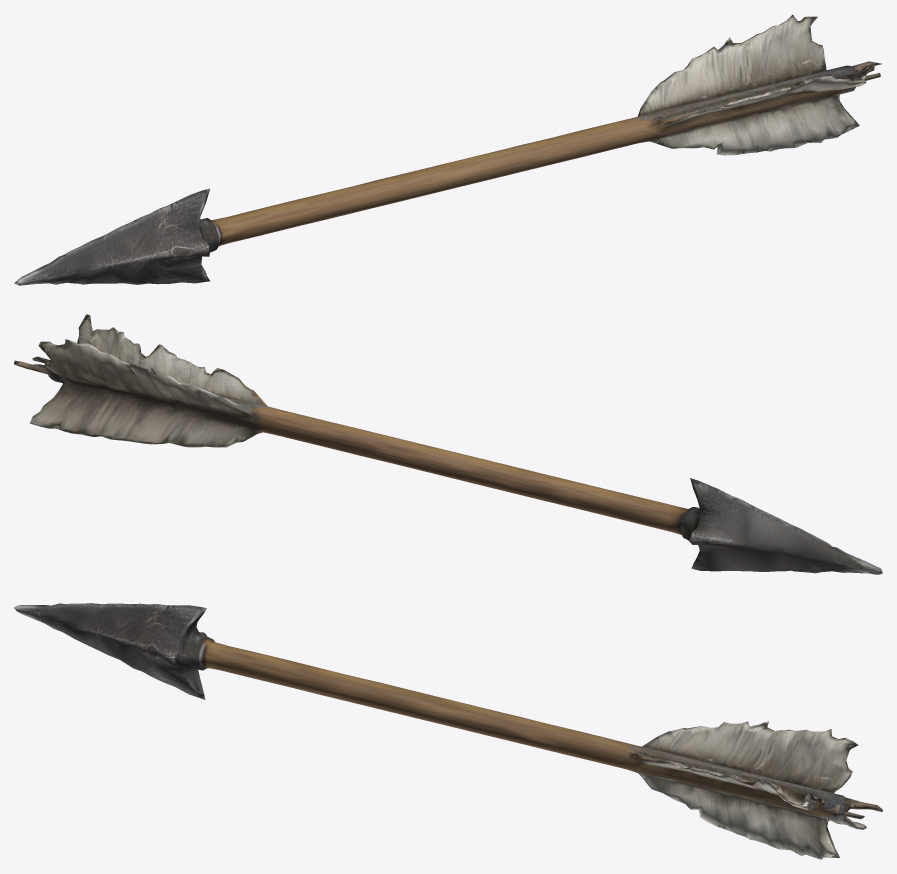
Rendered from Meshy_AI_Simple_Arrow_0901071244_texture.fbx.
3 renders of one model, top to bottom at view 1: azimuth 30°, elevation 25°; view 2: azimuth 150°, elevation 25°; view 3: azimuth 330°, elevation 25°, orthographic.
Visible parts, largest first — view 1: Mesh_0; view 2: Mesh_0; view 3: Mesh_0.
Part boxes in pixels (x1,y1,x2,y2): Mesh_0: [14, 14, 881, 285]; Mesh_0: [14, 314, 882, 574]; Mesh_0: [14, 603, 882, 859].
Bounding box in the file's own units: 195 × 23.07 × 21.65.
1 material, 1 textured.
